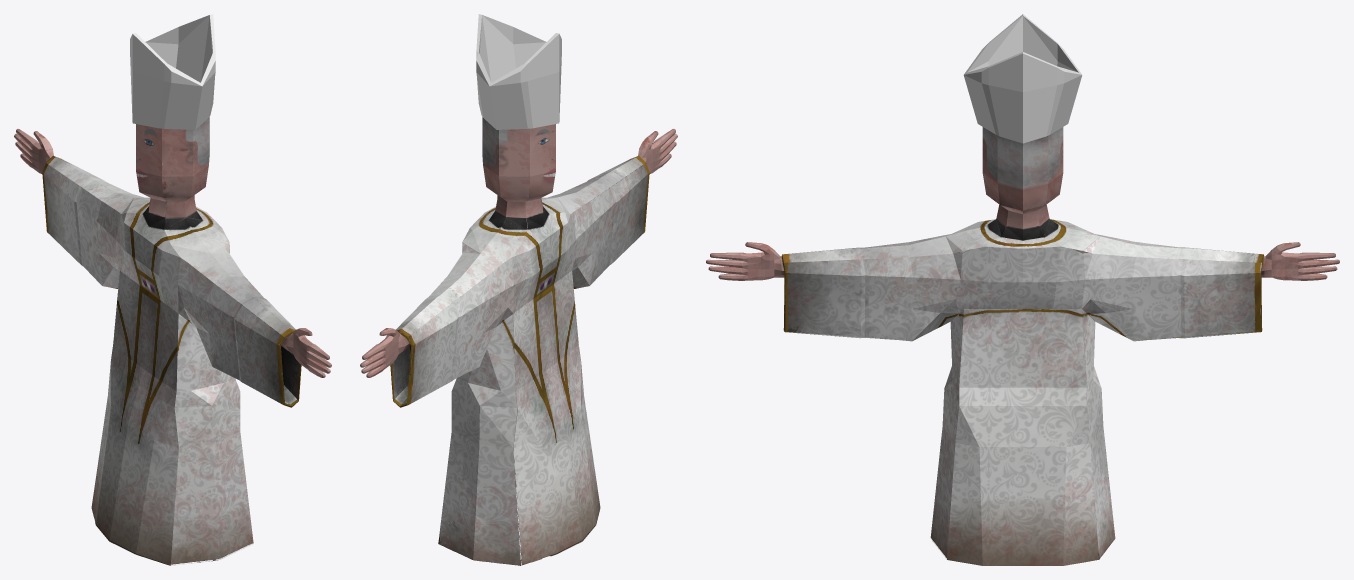
Rendered from Pope TEST.fbx.
The picture shows the model from 3 angles, left to right: view 1: azimuth 30°, elevation 25°; view 2: azimuth 150°, elevation 25°; view 3: azimuth 270°, elevation 25°; orthographic projection.
Parts seen in each view (by area): view 1: Cube.001, Cube; view 2: Cube.001, Cube; view 3: Cube.001, Cube.
Boxes of the visible parts, x1=… form: Cube.001: x1=14, y1=117, x2=331, y2=565; Cube: x1=130, y1=14, x2=215, y2=129; Cube.001: x1=360, y1=117, x2=677, y2=565; Cube: x1=476, y1=14, x2=561, y2=129; Cube.001: x1=706, y1=127, x2=1339, y2=565; Cube: x1=963, y1=14, x2=1082, y2=143.
Size of the model in its own units: 218 by 871 by 991.
